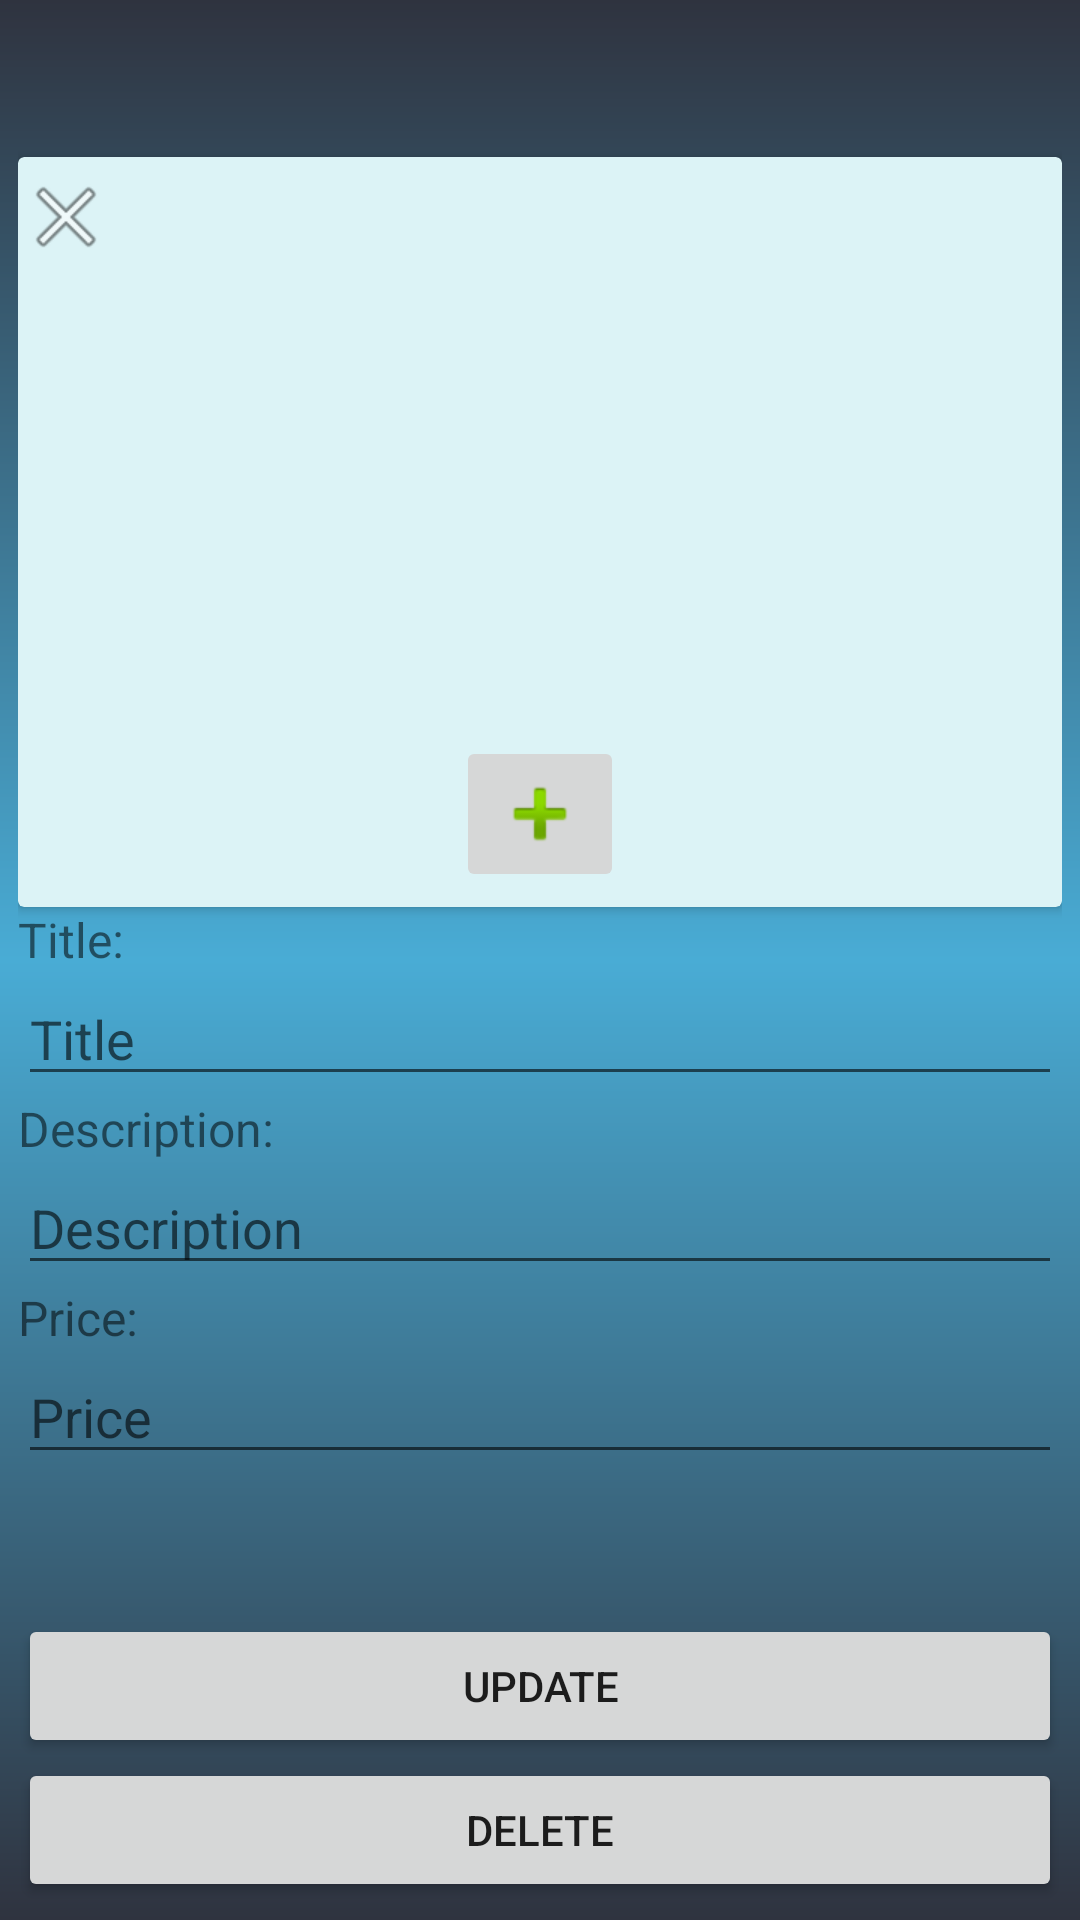

Icons on this 1080x1920 Android screen, each with the point to tap as [x,y]:
add: [540,814]
close clear cancel: [66,217]
